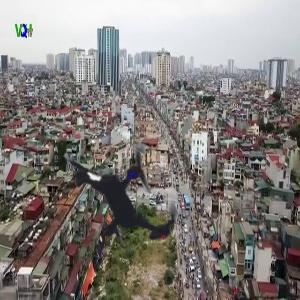drone: (29, 98, 224, 293)
